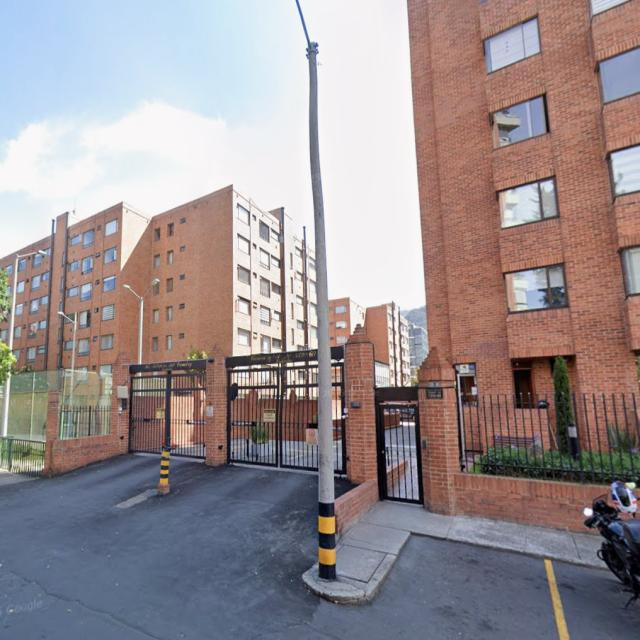fachada: (409, 0, 639, 395), (0, 186, 317, 374), (365, 302, 410, 386), (329, 298, 365, 346), (409, 324, 428, 377)
poste: (297, 0, 336, 579), (69, 313, 77, 436), (9, 255, 19, 352), (138, 296, 143, 364)
